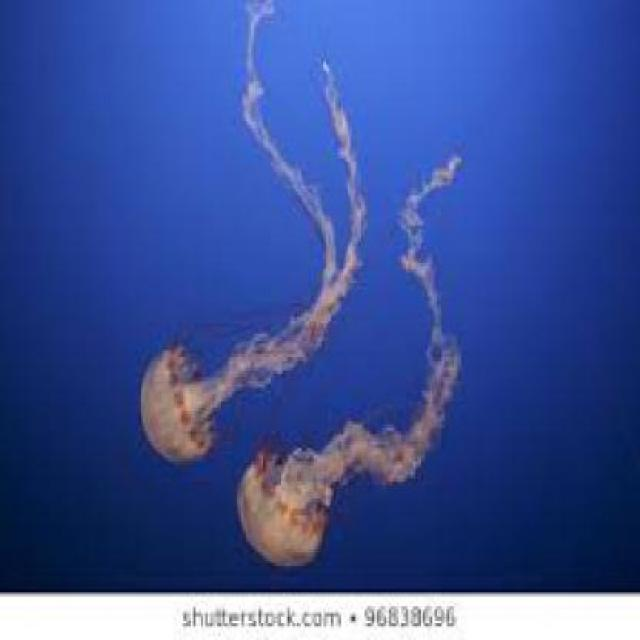Jellyfish: (232, 142, 478, 566)
